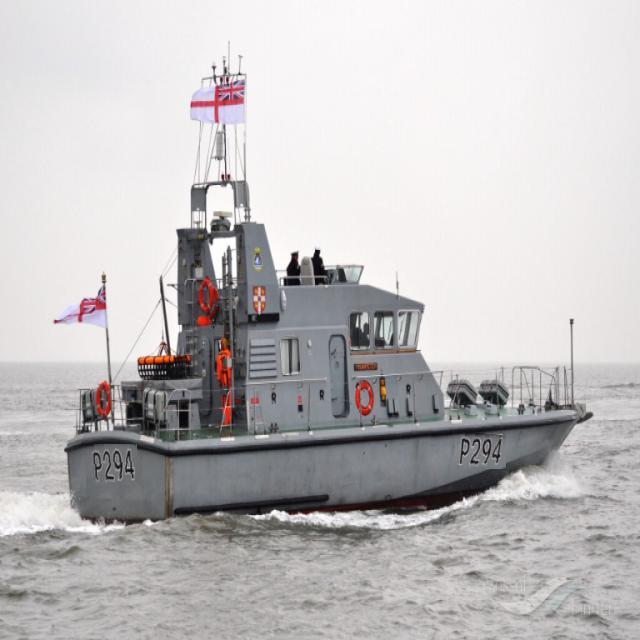OCR: (88, 444, 137, 494), (459, 431, 506, 469)
